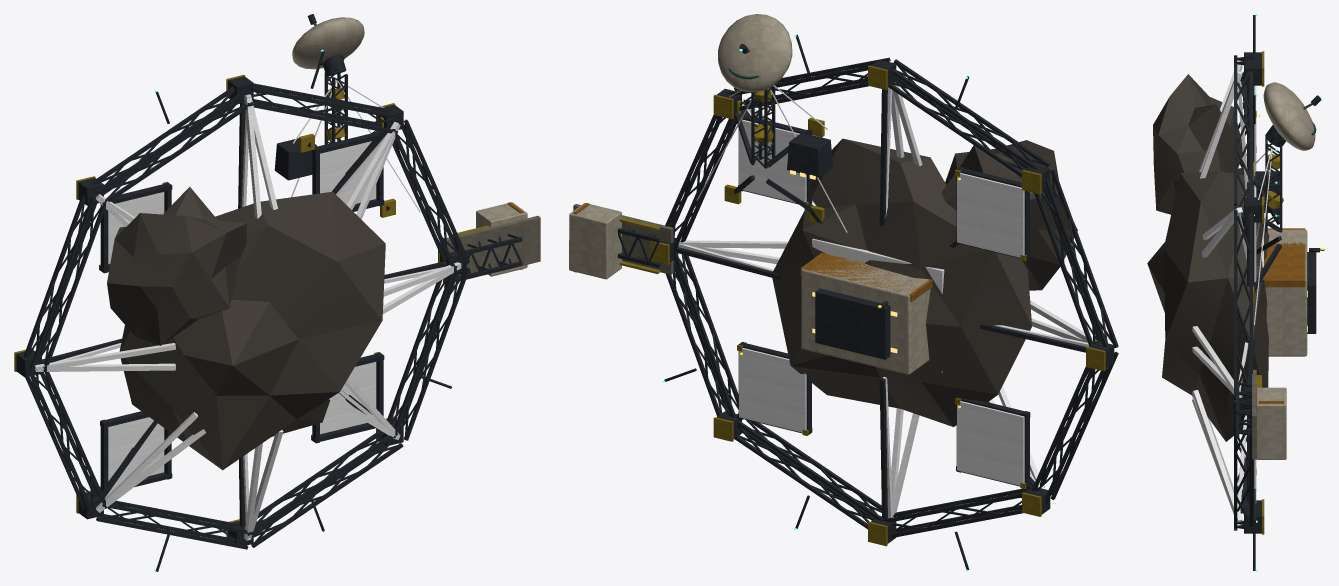
The model's file is place_claim_outpost_relay.glb.
3 views of the same model, side by side, from view 1: azimuth 30°, elevation 25°; view 2: azimuth 150°, elevation 25°; view 3: azimuth 270°, elevation 25° (orthographic). The views are drawn at different scales.
Visible parts, largest first — view 1: LOD0_Stone, LOD0_Armor, LOD0_MechanicalDark, LOD1_Armor, LOD0_Hull, LOD0_Hull_aged, LOD1_MechanicalDark, LOD0_Warning, LOD2_Hull, LOD1_Hull, LOD2_Armor; view 2: LOD0_Armor, LOD0_Stone, LOD0_MechanicalDark, LOD0_Hull, LOD1_Armor, LOD1_Hull, LOD0_Warning, LOD1_MechanicalDark, LOD0_Livery, LOD2_Hull, LOD0_Hull_aged; view 3: LOD0_Stone, LOD0_Armor, LOD0_Hull, LOD0_MechanicalDark, LOD1_Hull, LOD1_Armor, LOD0_Livery, LOD1_Livery, LOD1_MechanicalDark, LOD0_Warning, LOD2_Hull, LOD2_Armor (+1 smaller).
Boxes of the visible parts, left/top/right/bottom form: LOD0_Stone: left=107, top=187, right=385, bottom=470; LOD0_Armor: left=16, top=14, right=522, bottom=571; LOD0_MechanicalDark: left=35, top=80, right=461, bottom=540; LOD1_Armor: left=24, top=73, right=522, bottom=549; LOD0_Hull: left=292, top=17, right=527, bottom=276; LOD0_Hull_aged: left=443, top=215, right=540, bottom=282; LOD1_MechanicalDark: left=36, top=84, right=460, bottom=540; LOD0_Warning: left=14, top=74, right=489, bottom=537; LOD2_Hull: left=292, top=18, right=491, bottom=276; LOD1_Hull: left=292, top=18, right=527, bottom=274; LOD2_Armor: left=27, top=52, right=499, bottom=570; LOD0_Armor: left=617, top=34, right=1118, bottom=569; LOD0_Stone: left=772, top=138, right=1077, bottom=426; LOD0_MechanicalDark: left=678, top=82, right=1096, bottom=517; LOD0_Hull: left=569, top=14, right=930, bottom=374; LOD1_Armor: left=617, top=58, right=1117, bottom=533; LOD1_Hull: left=569, top=15, right=929, bottom=374; LOD0_Warning: left=619, top=65, right=1105, bottom=546; LOD1_MechanicalDark: left=679, top=87, right=1093, bottom=517; LOD0_Livery: left=573, top=203, right=932, bottom=302; LOD2_Hull: left=606, top=14, right=924, bottom=374; LOD0_Hull_aged: left=573, top=204, right=673, bottom=274; LOD0_Stone: left=1147, top=74, right=1269, bottom=441; LOD0_Armor: left=1234, top=15, right=1320, bottom=570; LOD0_Hull: left=1256, top=83, right=1315, bottom=459; LOD0_MechanicalDark: left=1192, top=64, right=1272, bottom=522; LOD1_Hull: left=1257, top=82, right=1314, bottom=459; LOD1_Armor: left=1234, top=55, right=1282, bottom=530; LOD0_Livery: left=1258, top=228, right=1305, bottom=403; LOD1_Livery: left=1263, top=228, right=1305, bottom=403; LOD1_MechanicalDark: left=1192, top=73, right=1248, bottom=520; LOD0_Warning: left=1253, top=51, right=1283, bottom=534; LOD2_Hull: left=1263, top=82, right=1315, bottom=405; LOD2_Armor: left=1237, top=15, right=1319, bottom=570.
Size of what is drawn, in the model's own units: 98.2 by 90.22 by 29.26.
Materials: 14 (8 with a texture image).
